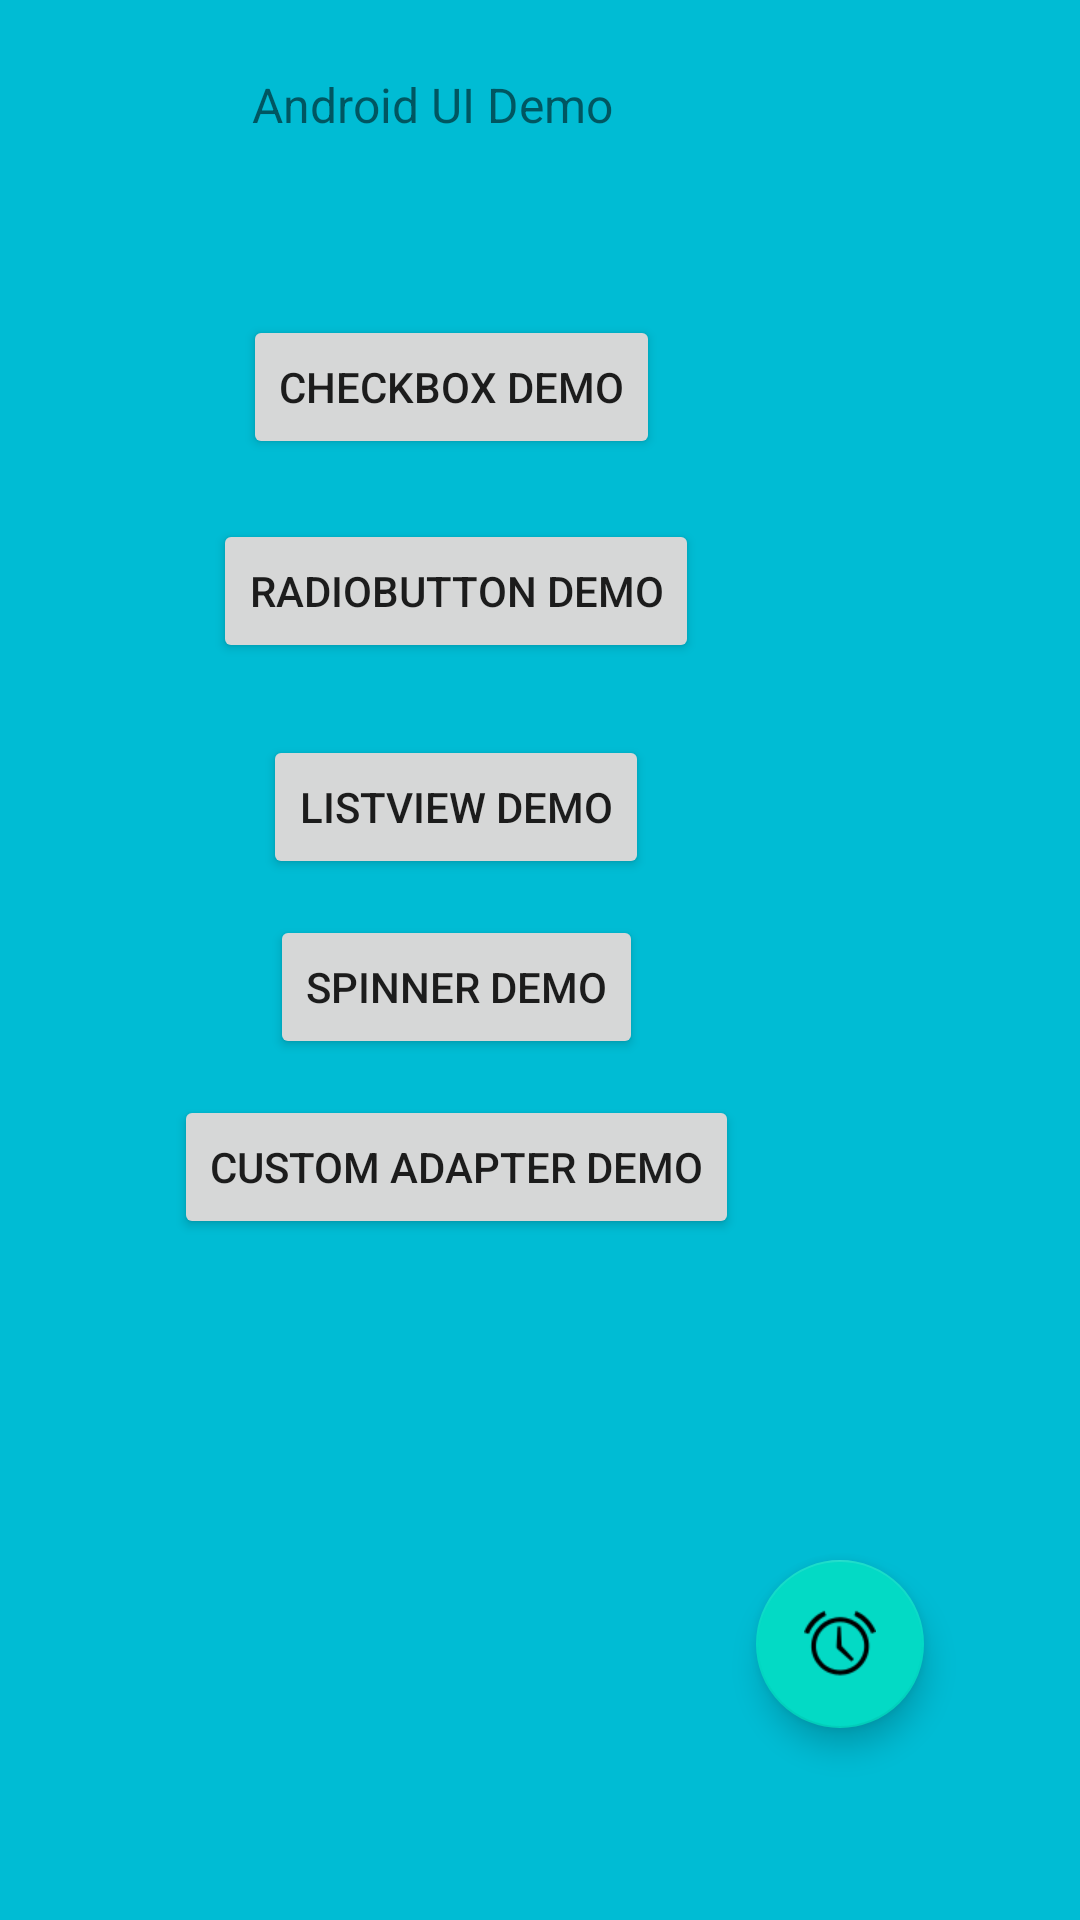

Named icons in this screenshot (1080*1920) and their bounding boxes, (x1, y1, x2, y2):
lock idle alarm: (756, 1560, 924, 1728)
